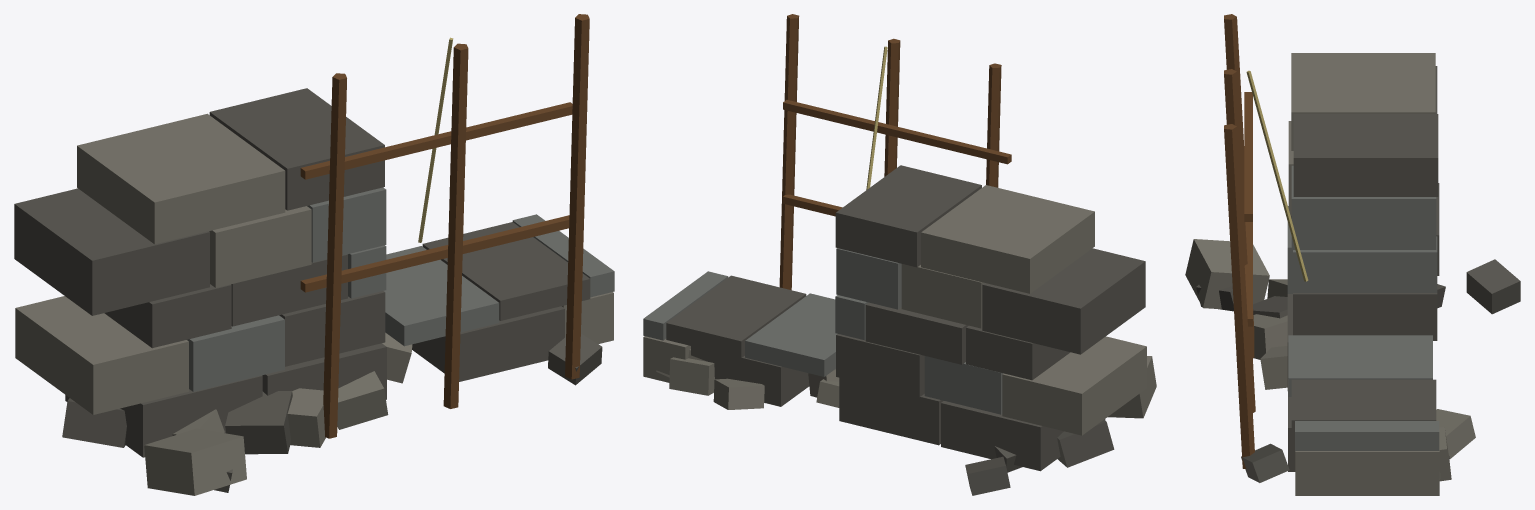
File: sanseong_wall_unfinished.glb
3 views of the same model, side by side, from view 1: azimuth 30°, elevation 25°; view 2: azimuth 150°, elevation 25°; view 3: azimuth 270°, elevation 25° (orthographic). The views are drawn at different scales.
Visible parts, largest first — view 1: sanseong_wall_unfinished; view 2: sanseong_wall_unfinished; view 3: sanseong_wall_unfinished.
Part boxes in pixels (box(x1,y1,x2,y2)): sanseong_wall_unfinished: box(14, 14, 614, 495); sanseong_wall_unfinished: box(643, 14, 1156, 495); sanseong_wall_unfinished: box(1185, 14, 1520, 495).
Size of the model in its own units: 3.89 by 2.71 by 2.32.
